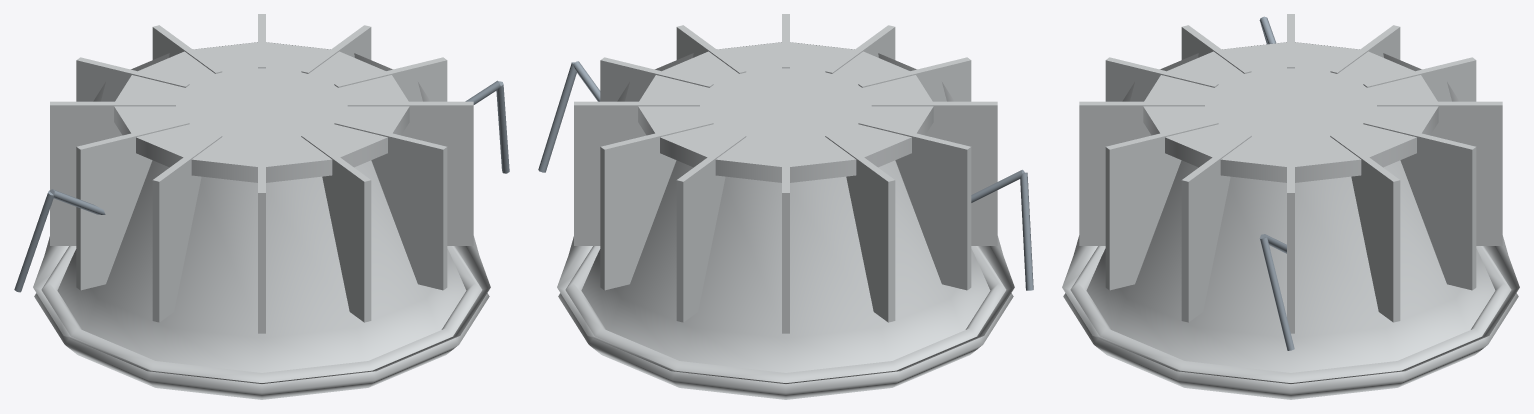
Rendered from source.glb.
The picture shows the model from 3 angles, left to right: view 1: azimuth 30°, elevation 25°; view 2: azimuth 150°, elevation 25°; view 3: azimuth 270°, elevation 25°; orthographic projection.
Parts seen in each view (by area): view 1: 粉末涂层铝壳, 机加工金属; view 2: 粉末涂层铝壳, 机加工金属; view 3: 粉末涂层铝壳, 机加工金属.
Part boxes in pixels (x1=…): 粉末涂层铝壳: x1=33, y1=14, x2=490, y2=399; 机加工金属: x1=14, y1=80, x2=509, y2=292; 粉末涂层铝壳: x1=557, y1=14, x2=1014, y2=399; 机加工金属: x1=538, y1=61, x2=1033, y2=290; 粉末涂层铝壳: x1=1062, y1=14, x2=1519, y2=399; 机加工金属: x1=1259, y1=16, x2=1294, y2=350.
Bounding box in the file's own units: 0.106 × 0.0423 × 0.085.
